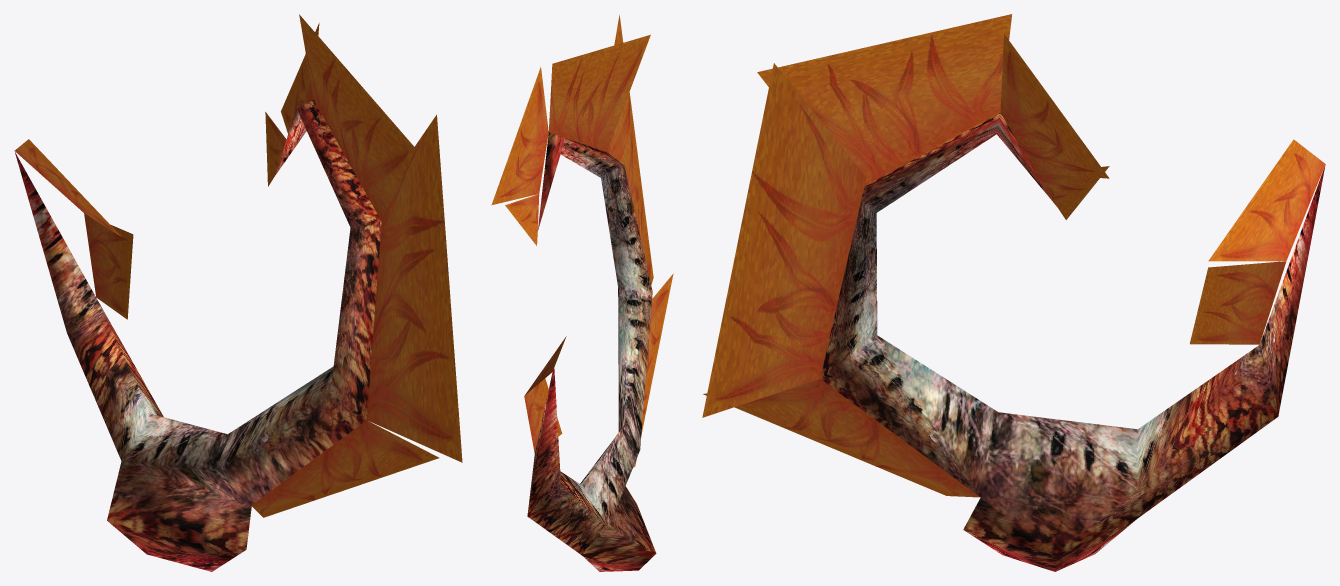
The model's file is leaf_tals_razorcoil_a1_l1.fbx.
3 views of the same model, side by side, from view 1: azimuth 30°, elevation 25°; view 2: azimuth 150°, elevation 25°; view 3: azimuth 270°, elevation 25° (orthographic). The views are drawn at different scales.
Visible parts, largest first — view 1: mesh_node; view 2: mesh_node; view 3: mesh_node.
Boxes of the visible parts, x1,y1,x2,y2 form: mesh_node: (14, 14, 462, 571); mesh_node: (491, 15, 673, 571); mesh_node: (702, 14, 1325, 571).
Size of the model in its own units: 0.5588 by 1.53 by 1.46.
